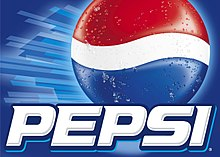pepsi: (70, 0, 209, 110), (70, 0, 209, 104)
